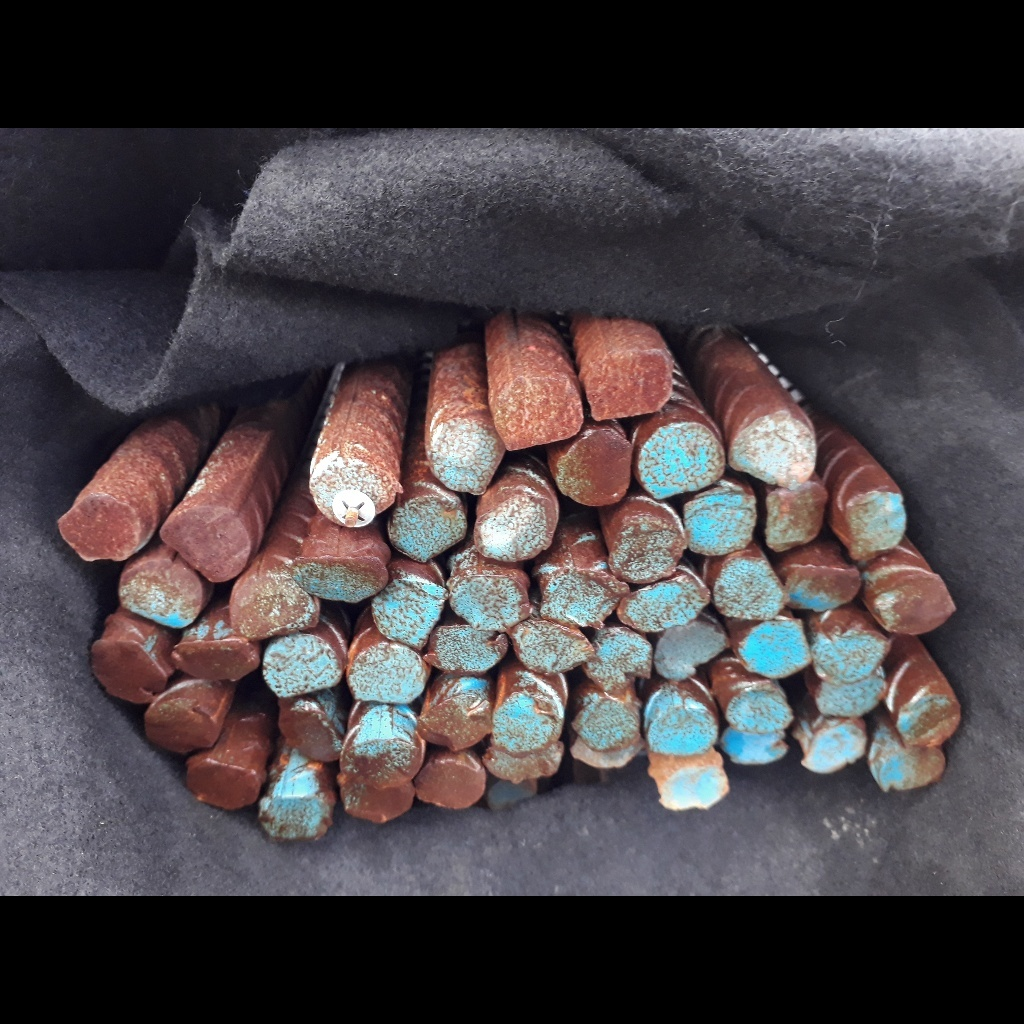dipstick: (639, 423, 725, 498), (312, 448, 395, 523), (732, 413, 815, 487), (497, 378, 581, 448), (168, 508, 248, 579), (122, 560, 202, 629), (590, 351, 673, 417), (59, 494, 140, 561), (562, 432, 632, 507), (263, 636, 343, 698), (610, 517, 687, 579), (350, 641, 429, 701), (233, 579, 319, 634), (344, 724, 421, 784), (684, 489, 755, 554), (816, 614, 887, 679), (622, 577, 710, 628), (882, 575, 957, 634), (542, 569, 621, 625), (452, 573, 537, 625), (716, 554, 784, 618), (739, 619, 812, 678), (431, 430, 500, 492), (89, 641, 164, 698), (873, 732, 945, 790), (143, 701, 220, 755), (393, 497, 463, 554), (376, 582, 439, 644), (296, 557, 385, 600), (421, 694, 490, 749), (588, 628, 651, 687), (493, 691, 557, 749), (848, 491, 905, 556), (282, 701, 342, 762), (656, 626, 725, 679), (767, 488, 825, 551), (516, 624, 590, 673), (188, 761, 258, 812), (175, 639, 256, 682), (648, 704, 715, 754), (900, 693, 959, 748), (260, 794, 329, 841), (421, 758, 484, 809), (787, 566, 860, 610), (431, 628, 505, 671), (660, 769, 729, 812), (343, 785, 413, 824), (580, 701, 638, 748), (726, 689, 790, 731), (804, 725, 865, 769), (815, 681, 887, 715), (484, 751, 560, 782), (725, 731, 784, 763), (572, 751, 633, 770)
